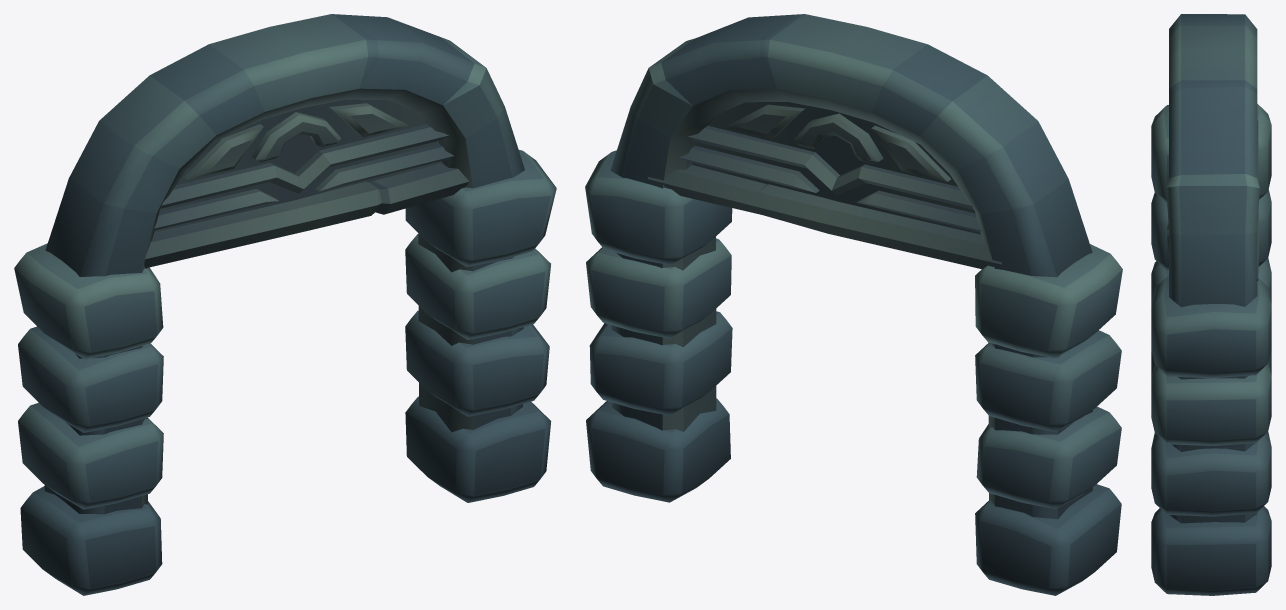
The model's file is doorframe.fbx.
The picture shows the model from 3 angles, left to right: view 1: azimuth 30°, elevation 25°; view 2: azimuth 150°, elevation 25°; view 3: azimuth 270°, elevation 25°; orthographic projection. The views are drawn at different scales.
Parts seen in each view (by area): view 1: doorframe; view 2: doorframe; view 3: doorframe.
Part boxes in pixels (x1=…): doorframe: x1=14, y1=14, x2=556, y2=595; doorframe: x1=585, y1=14, x2=1122, y2=595; doorframe: x1=1151, y1=14, x2=1271, y2=595.
Size of the model in its own units: 344 by 315 by 77.11.
